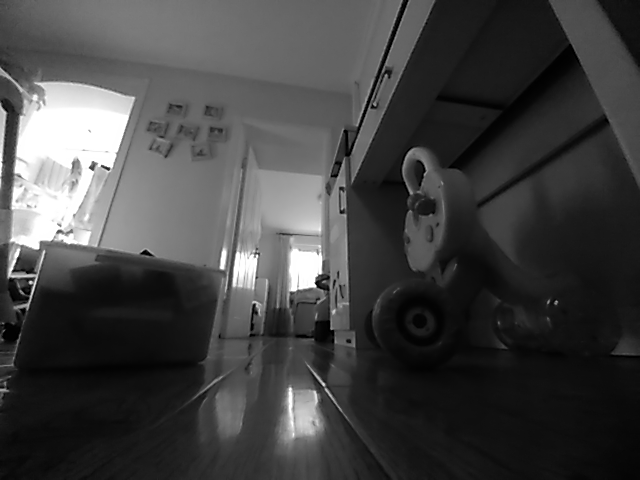curtain: (261, 231, 294, 338)
others: (9, 309, 221, 370)
toy: (365, 262, 625, 366)
